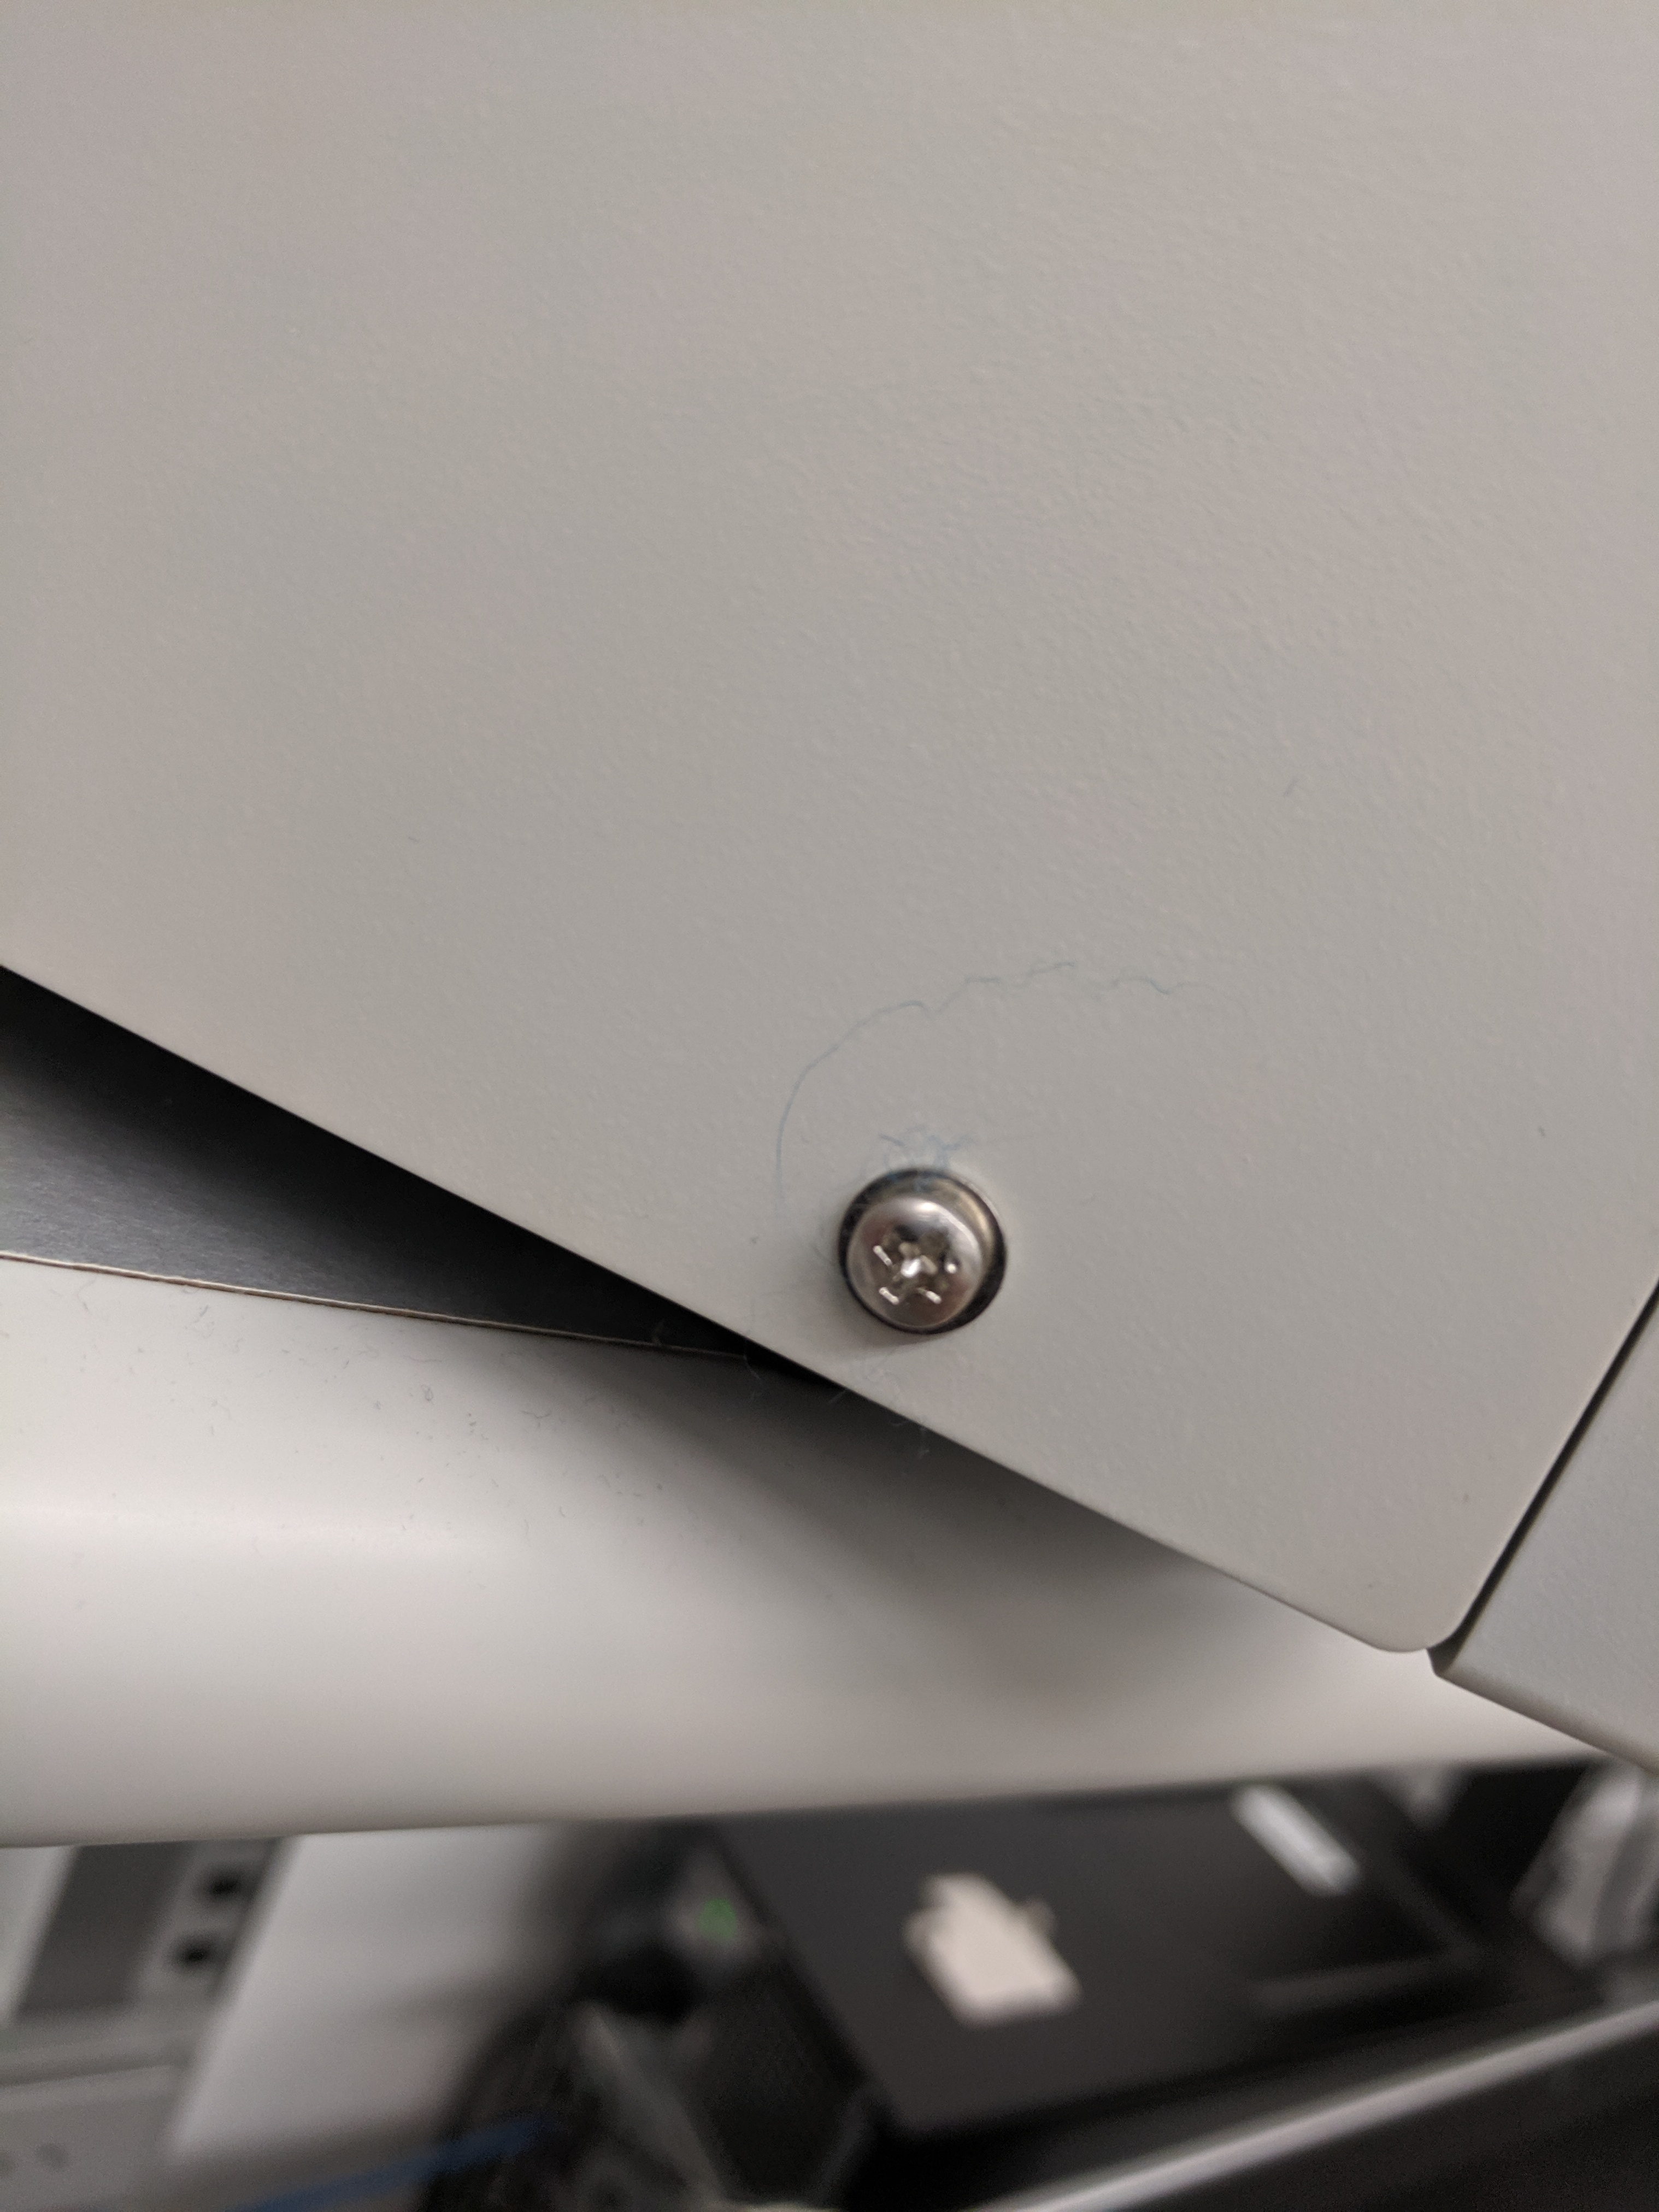cross_recessed_screw: (579, 1071, 695, 1202), (1453, 1047, 1563, 1181), (349, 535, 467, 631), (1007, 989, 1107, 1092)
